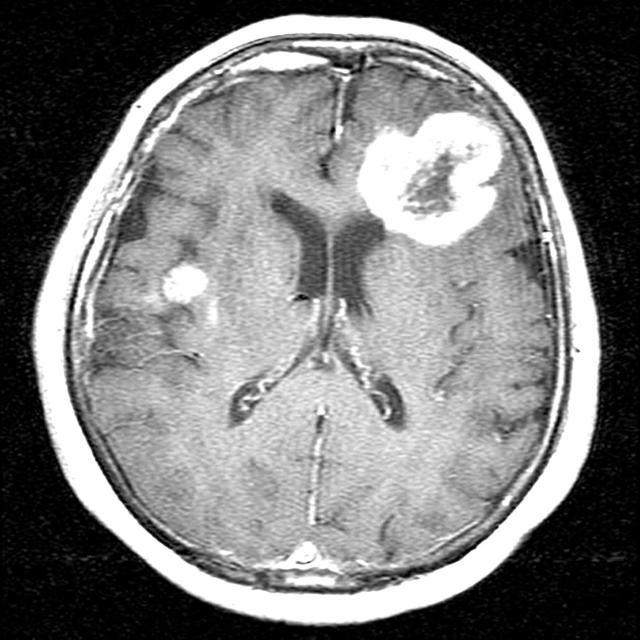Tumor-Cell: (332, 93, 507, 245)
